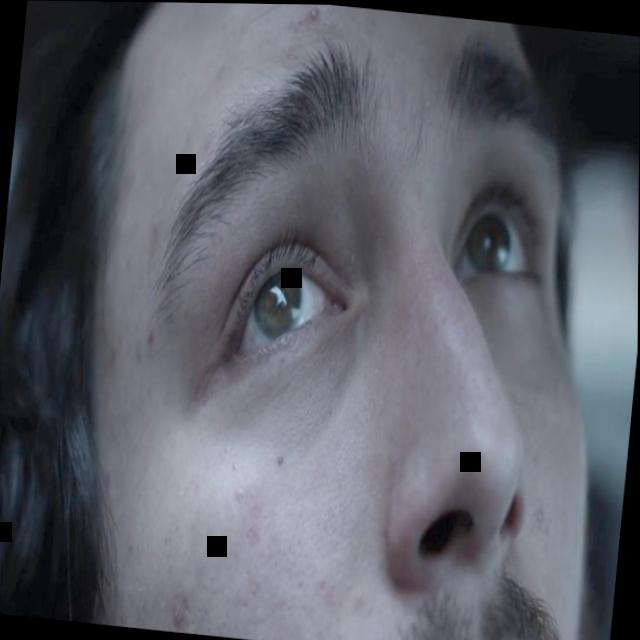NO-Mask: (69, 1, 638, 640)
